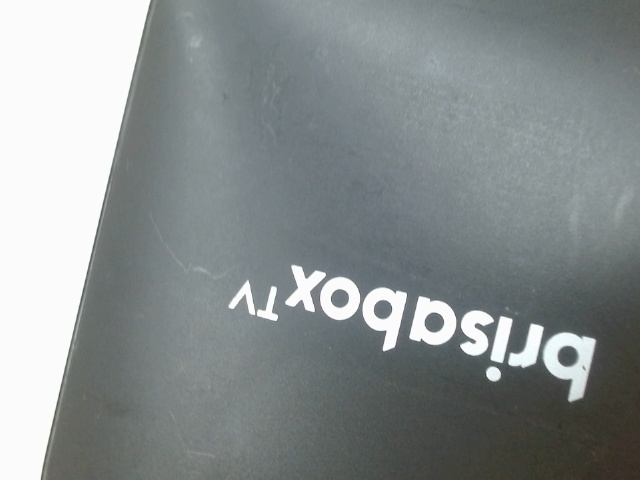AH_brisabox: (211, 243, 613, 405)
